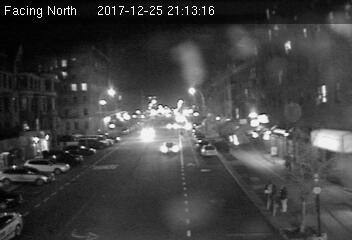car: (200, 143, 218, 157), (160, 141, 179, 154)
